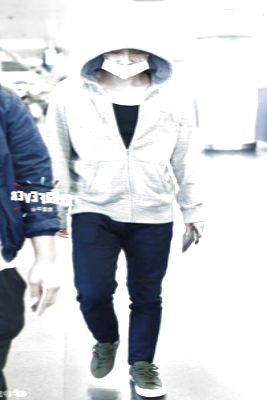mask_weared_incorrect: (101, 47, 150, 80)
